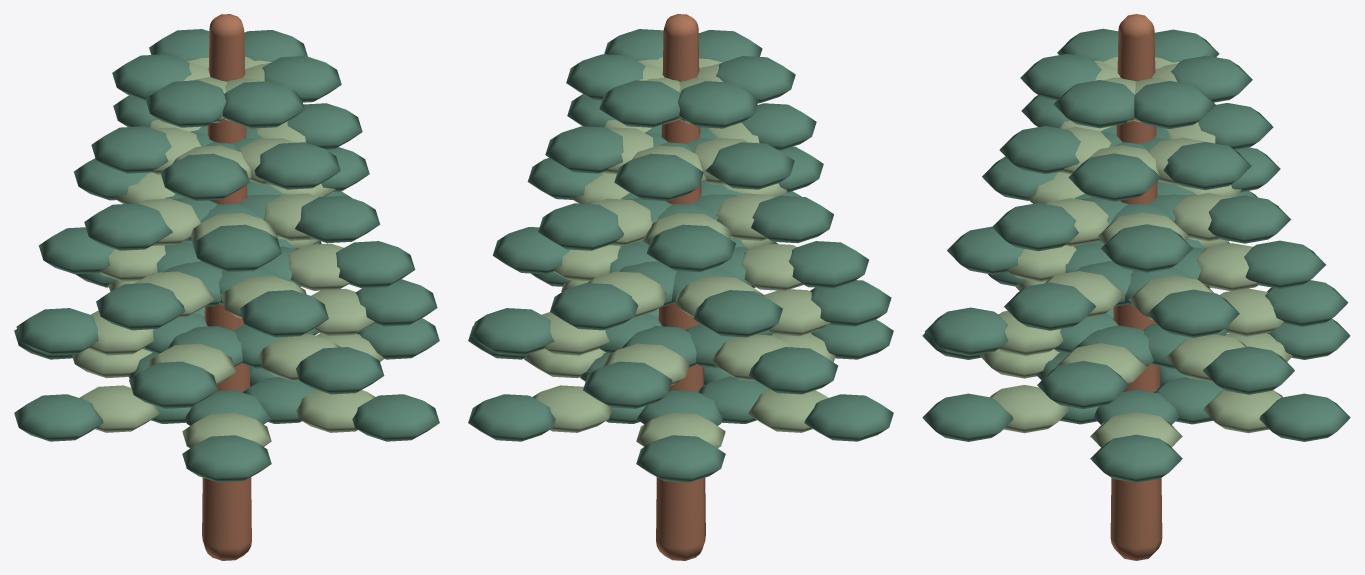
Rendered from araucaria_conifer.glb.
The picture shows the model from 3 angles, left to right: view 1: azimuth 30°, elevation 25°; view 2: azimuth 150°, elevation 25°; view 3: azimuth 270°, elevation 25°; orthographic projection.
Parts seen in each view (by area): view 1: araucaria-conifer; view 2: araucaria-conifer; view 3: araucaria-conifer.
Boxes of the visible parts, <box> form: araucaria-conifer: <box>14,14,439,560</box>; araucaria-conifer: <box>468,14,893,560</box>; araucaria-conifer: <box>922,14,1350,560</box>.
Size of the model in its own units: 4.46 by 5.57 by 3.98.
